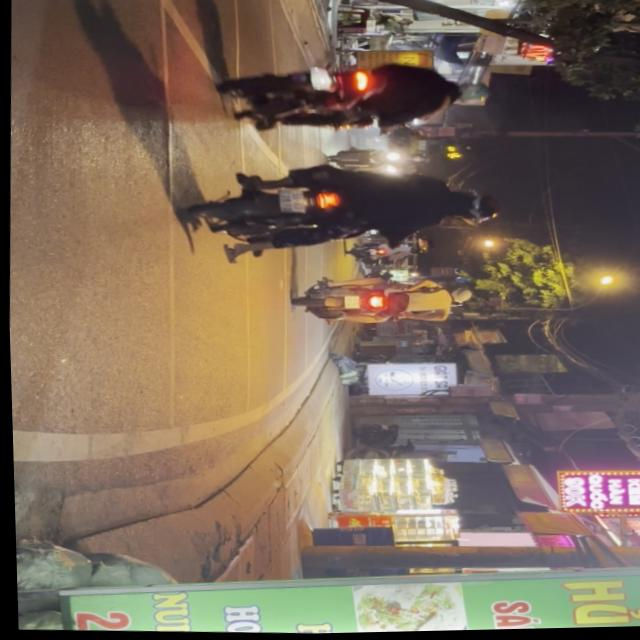helmet: (448, 187, 504, 224), (450, 80, 490, 104), (447, 288, 473, 305)
licenseplate: (178, 154, 507, 266), (217, 53, 493, 141), (287, 264, 478, 334)
nohelmet: (280, 188, 307, 213), (310, 66, 333, 91)
